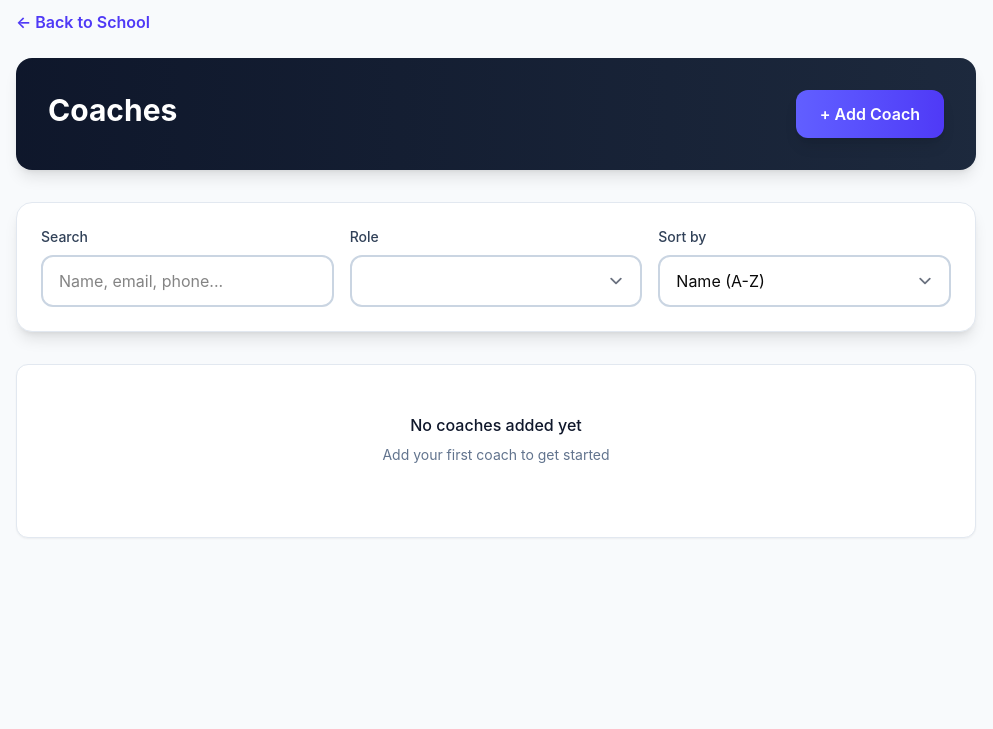
Scenario: pages/schools/[id]/coaches.vue › Add Coach Form › should show form when Add Coach button is clicked
Click the button "+ Add Coach" at (870, 114), box [796,90,944,138]
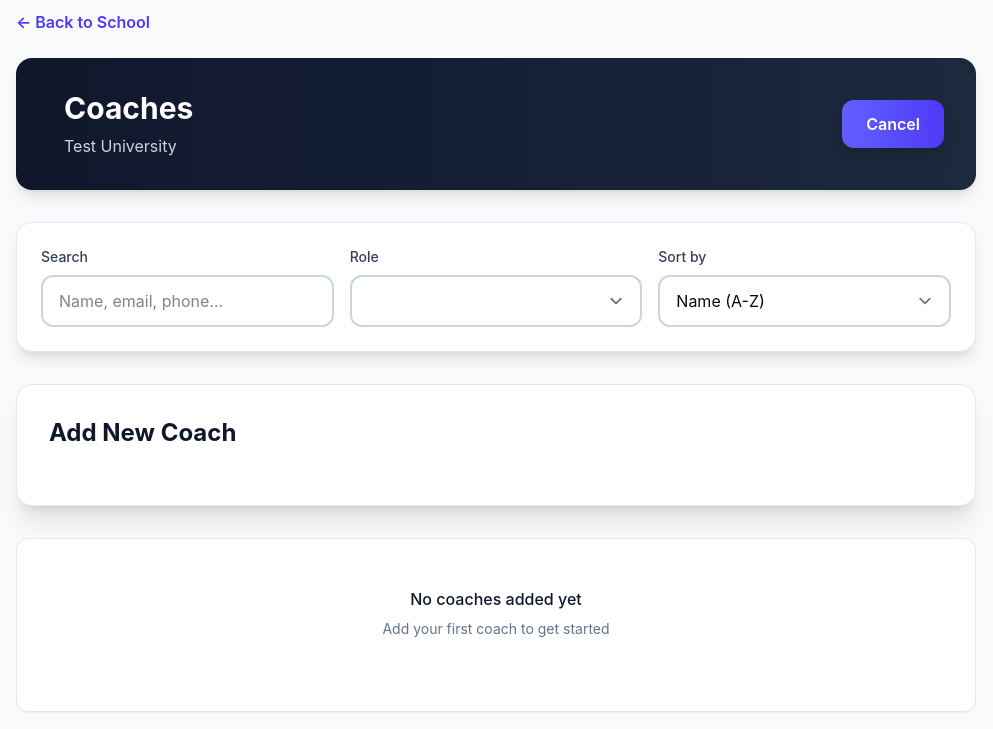
Check: the text "Cancel" is shown, box [842,100,944,148]
